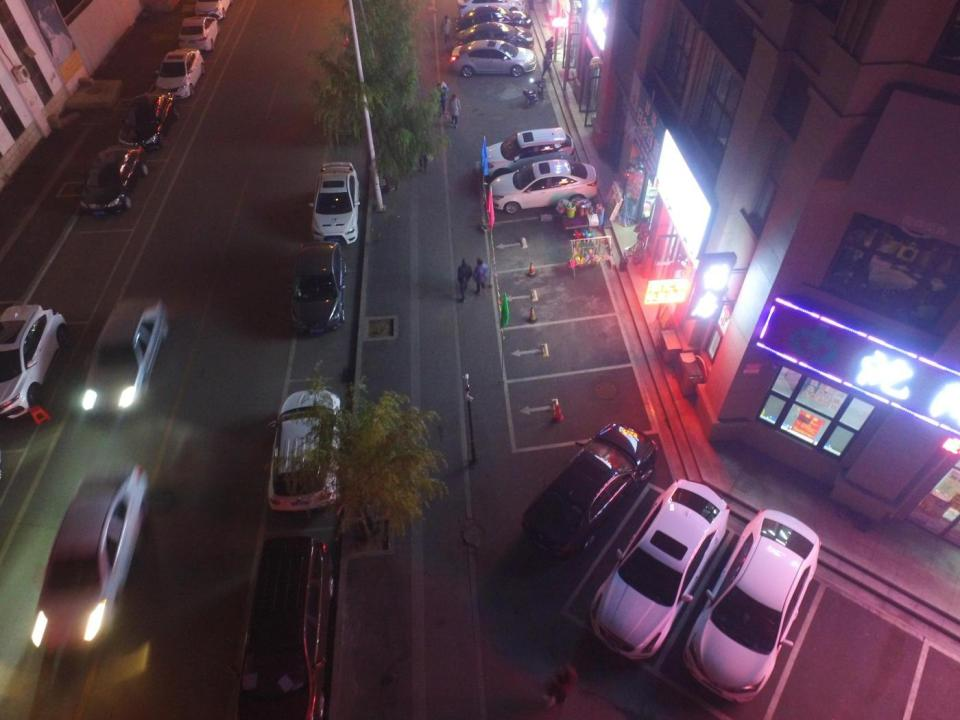car: (684, 509, 822, 704), (588, 478, 731, 661), (29, 464, 149, 650), (522, 423, 659, 556), (81, 297, 168, 412), (267, 390, 338, 512), (0, 306, 68, 420), (490, 159, 597, 215), (287, 241, 346, 334), (80, 146, 148, 216), (483, 128, 574, 179), (309, 160, 360, 245), (119, 89, 178, 152), (451, 39, 536, 78), (154, 47, 206, 99), (457, 4, 532, 34), (456, 21, 534, 49), (178, 16, 220, 52), (458, 0, 524, 16), (193, 0, 232, 19)
van: (230, 537, 333, 720)
